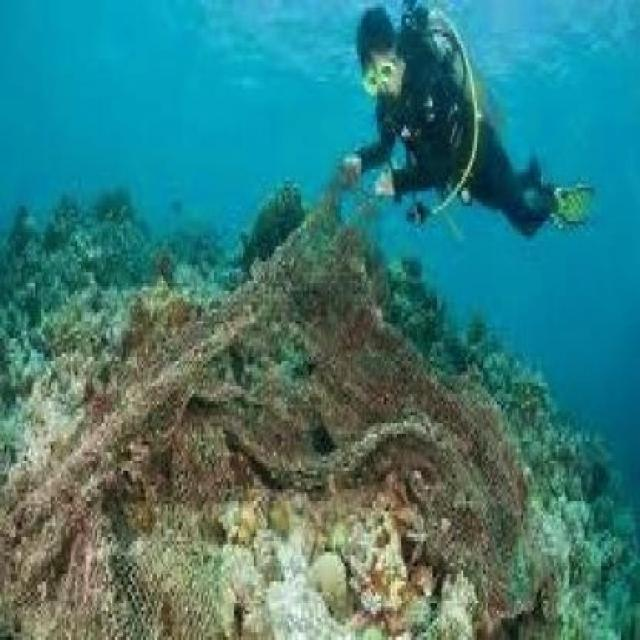net: (20, 265, 523, 632)
